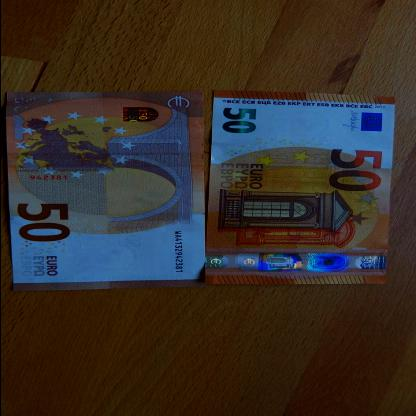euro_banknote: (5, 92, 206, 290), (202, 98, 400, 282)
